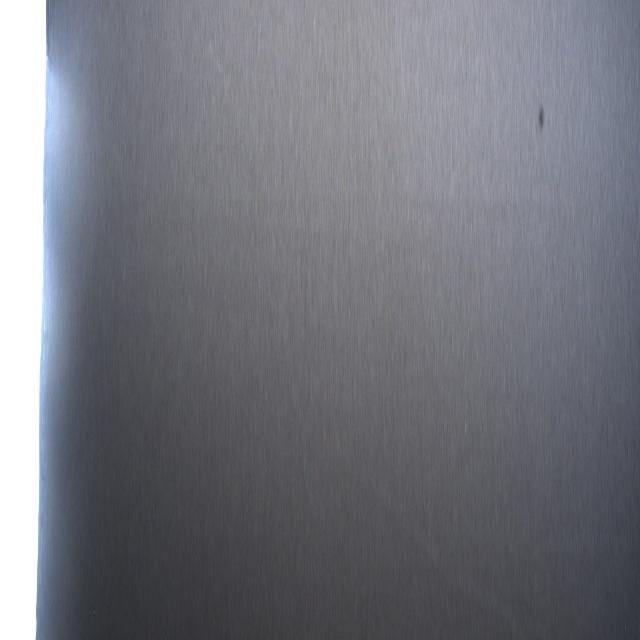crease: (346, 454, 531, 640)
